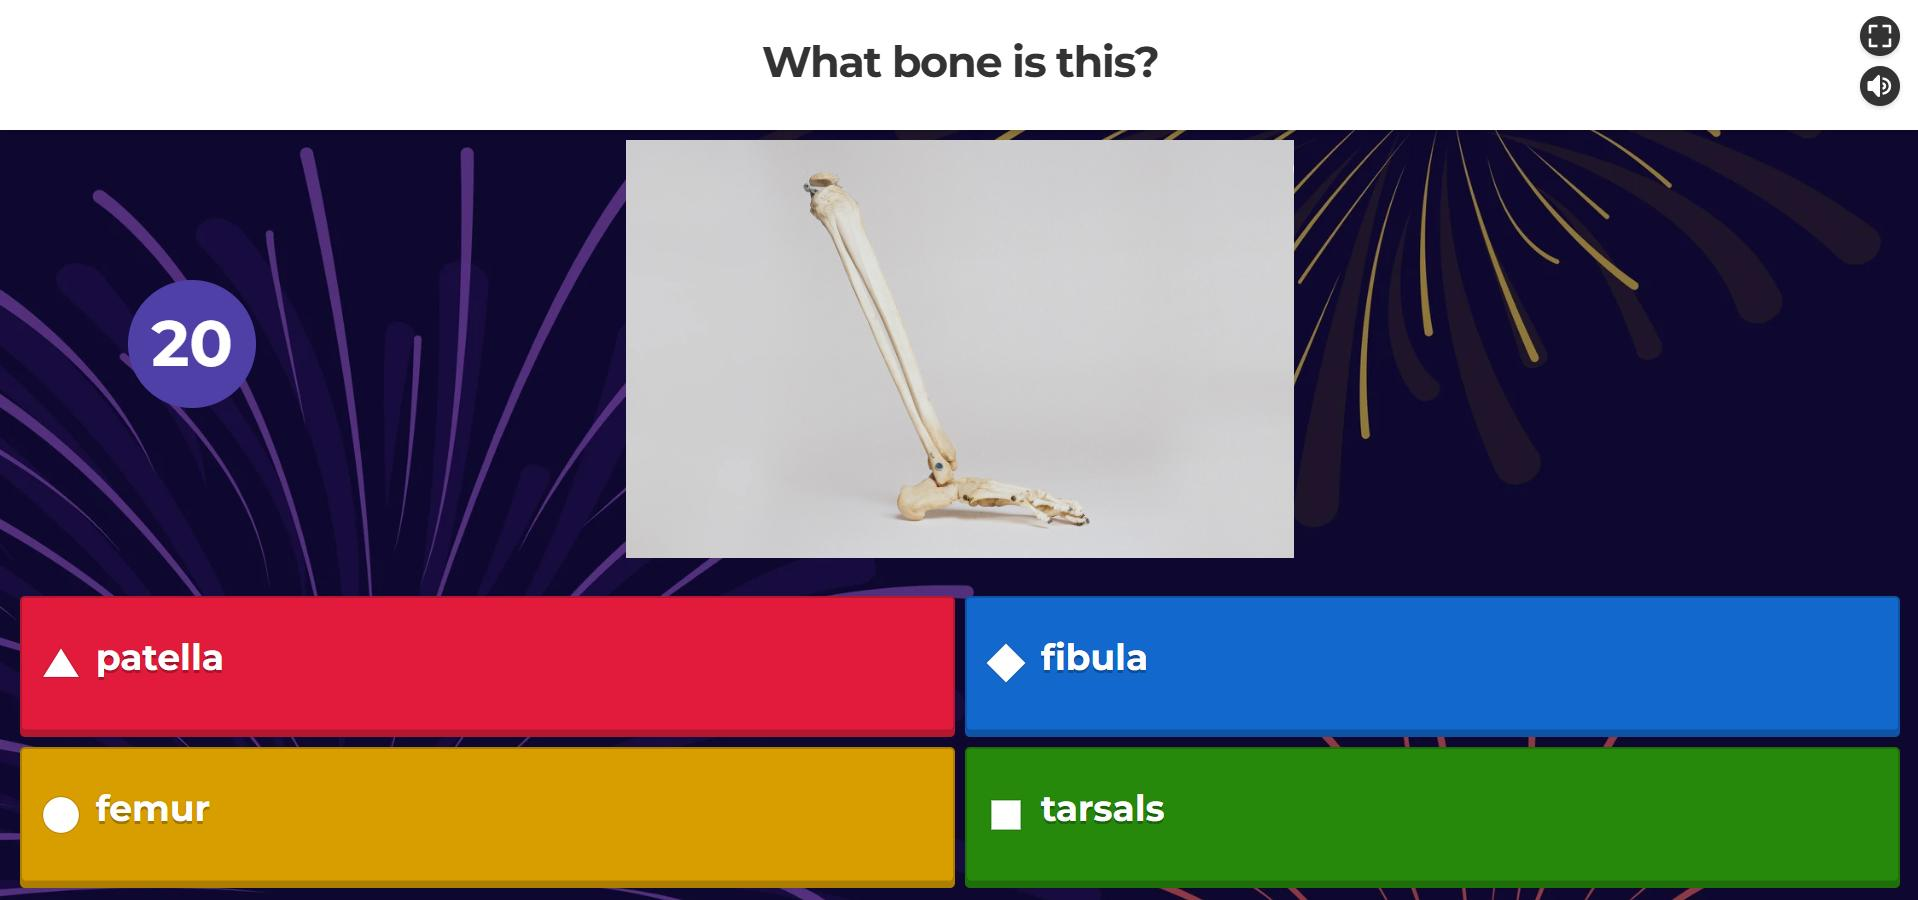answer_blue: (963, 600, 1896, 735)
answer_green: (968, 750, 1898, 889)
answer_red: (23, 597, 954, 735)
answer_yellow: (18, 747, 954, 885)
question_box: (4, 4, 1843, 132)
